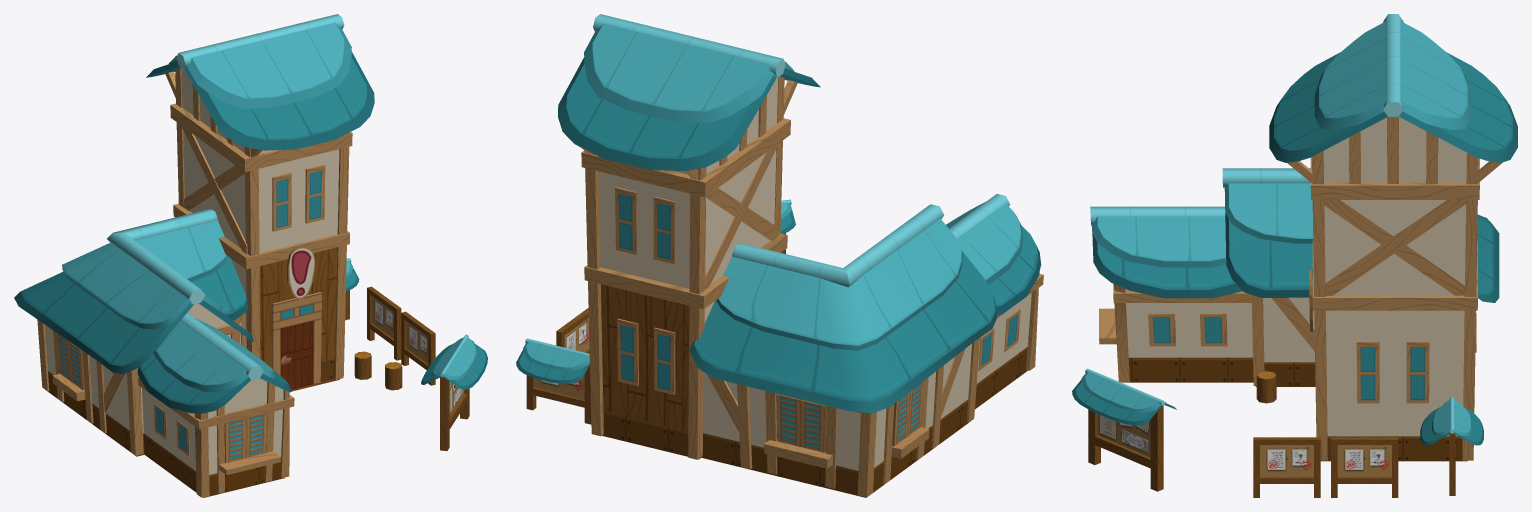
The model's file is building_Commissioner_lv5.FBX.
The picture shows the model from 3 angles, left to right: view 1: azimuth 30°, elevation 25°; view 2: azimuth 150°, elevation 25°; view 3: azimuth 270°, elevation 25°; orthographic projection. The views are drawn at different scales.
Parts seen in each view (by area): view 1: building_Commissioner_main_lv5, building_Commissioner_lv5, building_Commissioner_etc_lv5; view 2: building_Commissioner_main_lv5, building_Commissioner_lv5, building_Commissioner_etc_lv5; view 3: building_Commissioner_main_lv5, building_Commissioner_lv5, building_Commissioner_etc_lv5.
Part boxes in pixels (x1,y1,x2,y2): building_Commissioner_main_lv5: (14,14,374,497); building_Commissioner_lv5: (37,68,487,497); building_Commissioner_etc_lv5: (345,286,469,450); building_Commissioner_main_lv5: (558,14,1041,497); building_Commissioner_lv5: (516,76,1043,497); building_Commissioner_etc_lv5: (526,233,785,424); building_Commissioner_main_lv5: (1090,14,1517,461); building_Commissioner_lv5: (1072,117,1502,460); building_Commissioner_etc_lv5: (1088,371,1455,497).
Size of the model in its own units: 578 by 565 by 606.
